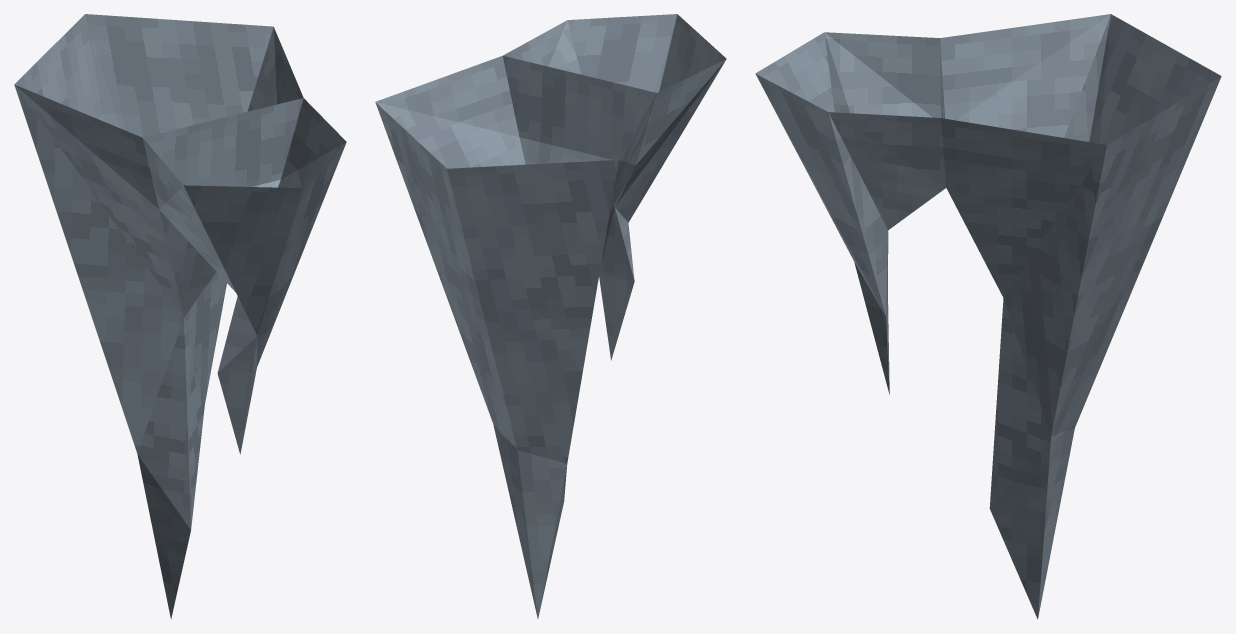
The model's file is stalagtite1.obj.
The picture shows the model from 3 angles, left to right: view 1: azimuth 30°, elevation 25°; view 2: azimuth 150°, elevation 25°; view 3: azimuth 270°, elevation 25°; orthographic projection. The views are drawn at different scales.
Visible parts, largest first — view 1: Geoset_000; view 2: Geoset_000; view 3: Geoset_000.
Part boxes in pixels (x1,y1,x2,y2): Geoset_000: (14, 14, 346, 619); Geoset_000: (375, 14, 726, 618); Geoset_000: (755, 14, 1221, 619).
Size of the model in its own units: 2.62 by 5.23 by 4.05.
